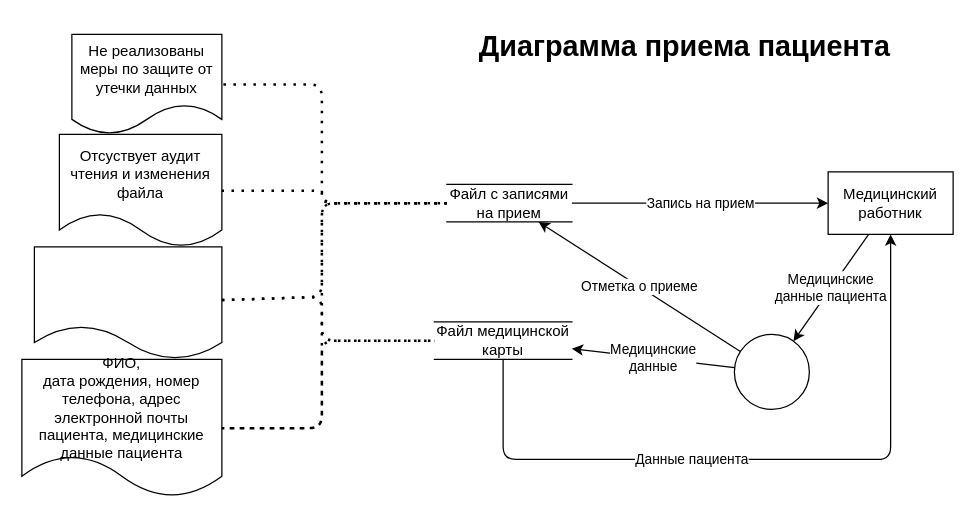
Image size: 975x519. Some labels were removed from this diagram. The centre of each missing label's shape, as x and y in pixels:
Прием пациента: the point at 771,371
Файл не защищен от изменения другими сотрудниками: the point at 127,302
